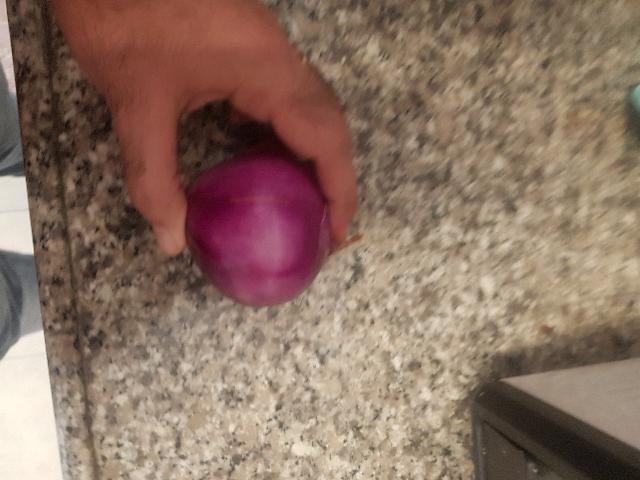onion: (314, 304, 461, 460)
